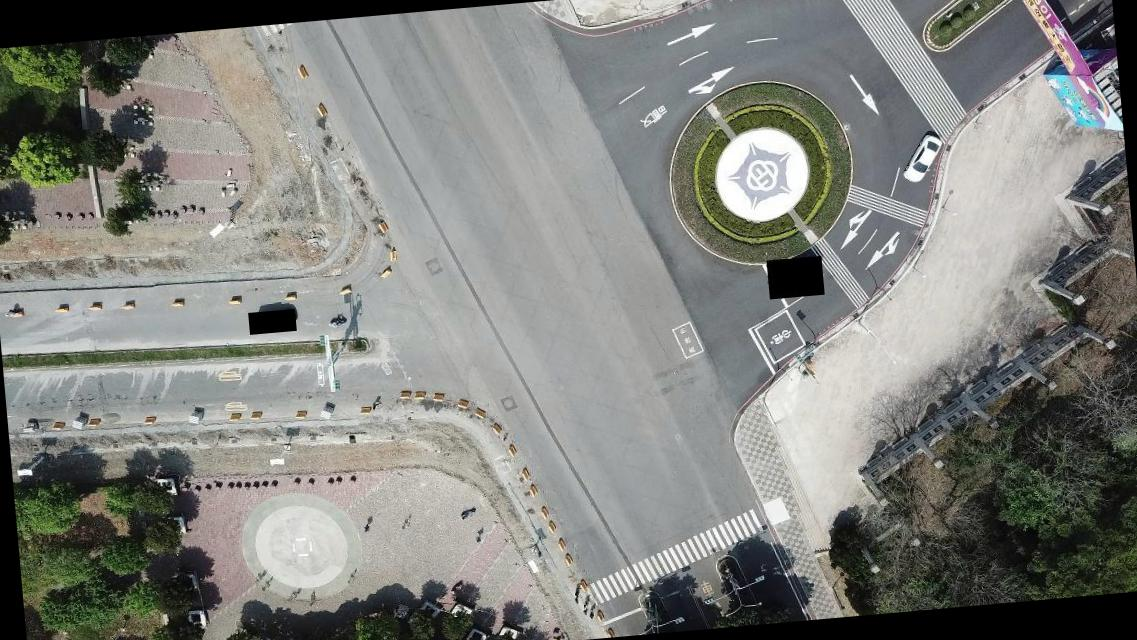vehicle: (900, 132, 944, 185)
